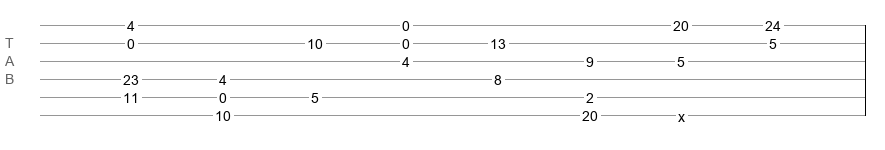0: (127, 36, 135, 46), (219, 90, 227, 100), (402, 18, 410, 28), (402, 36, 410, 46)
10: (215, 108, 231, 118), (307, 36, 323, 46)
11: (123, 90, 139, 100)
13: (490, 36, 506, 46)
2: (586, 90, 594, 100)
20: (582, 108, 598, 118), (673, 18, 689, 28)
23: (123, 72, 139, 82)
24: (765, 18, 781, 28)
4: (127, 18, 135, 28), (219, 72, 227, 82), (402, 54, 410, 64)
5: (311, 90, 319, 100), (677, 54, 685, 64), (769, 36, 777, 46)
8: (494, 72, 502, 82)
9: (586, 54, 594, 64)
x: (678, 109, 685, 117)
